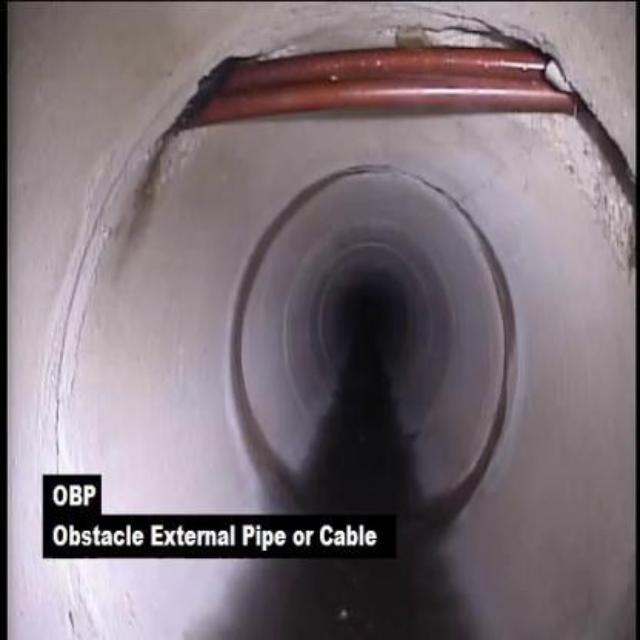Utility intrusion: (165, 20, 598, 149)
